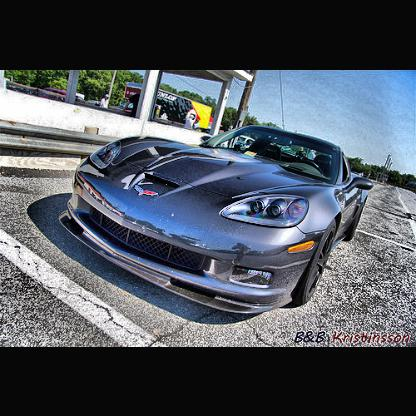Chevrolet Corvette ZR1 2012: (59, 121, 376, 321)
